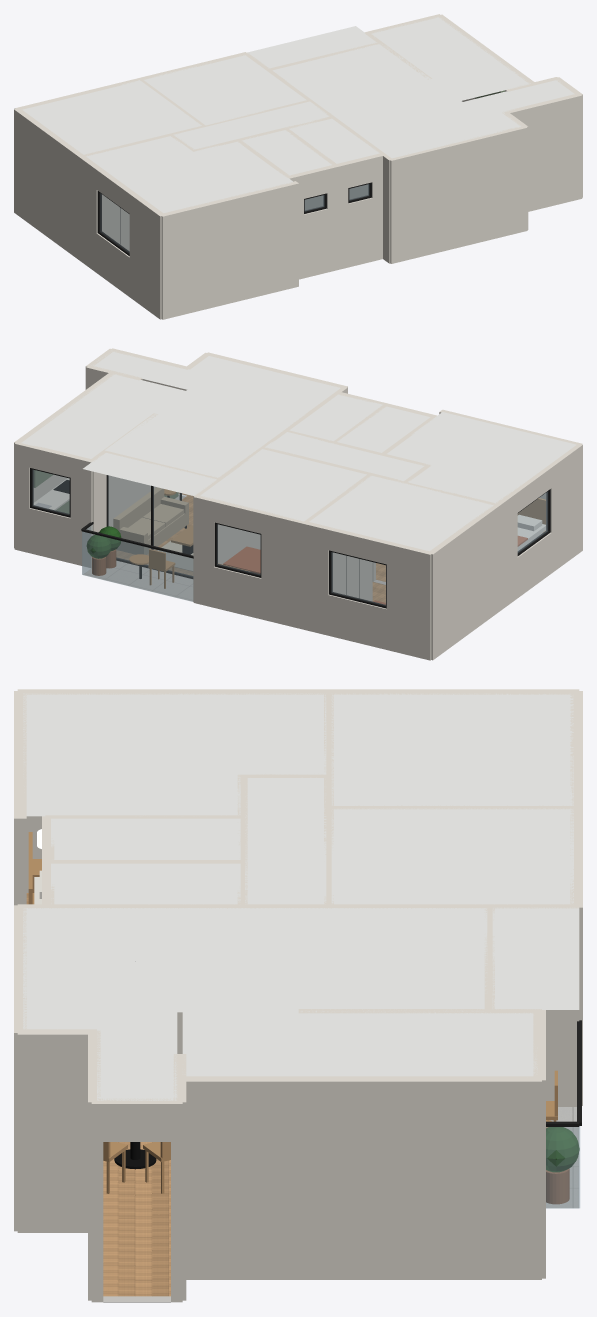
Rendered from modelo_escandinavo.glb.
The picture shows the model from 3 angles, top to bottom: view 1: azimuth 30°, elevation 25°; view 2: azimuth 150°, elevation 25°; view 3: azimuth 270°, elevation 25°; orthographic projection. The views are drawn at different scales.
Parts seen in each view (by area): view 1: Parede_P03, Parede_P05, Teto_Sala estar/jantar, Parede_P02.003, Teto_Suíte, Teto_Quarto 1, Teto_Quarto 2, Teto_Cozinha, Parede_P07, Parede_P02, Teto_Circulação, Teto_Varanda (+17 smaller); view 2: Teto_Sala estar/jantar, Parede_P02.003, Teto_Suíte, Teto_Quarto 1, Parede_P01.003, Teto_Quarto 2, Teto_Cozinha, Vidro_P15, Parede_P01, GuardaCorpo_vidro, Parede_P02, Teto_Circulação (+36 smaller); view 3: Parede_P10, Teto_Sala estar/jantar, Teto_Suíte, Teto_Quarto 1, Teto_Quarto 2, Teto_Cozinha, Parede_P06, Teto_Circulação, Teto_Varanda, Teto_Banheiro suíte, Teto_Banheiro social, Teto_Hall de entrada (+25 smaller).
Boxes of the visible parts, x1=… form: Parede_P03: x1=160, y1=181, x2=298, y2=319; Parede_P05: x1=388, y1=125, x2=527, y2=263; Teto_Sala estar/jantar: x1=272, y1=44, x2=520, y2=158; Parede_P02.003: x1=14, y1=108, x2=102, y2=272; Teto_Suíte: x1=86, y1=136, x2=293, y2=213; Teto_Quarto 1: x1=22, y1=80, x2=201, y2=154; Teto_Quarto 2: x1=144, y1=55, x2=306, y2=125; Teto_Cozinha: x1=371, y1=17, x2=530, y2=100; Parede_P07: x1=503, y1=93, x2=582, y2=211; Parede_P02: x1=129, y1=193, x2=164, y2=319; Teto_Circulação: x1=173, y1=101, x2=329, y2=149; Teto_Varanda: x1=247, y1=26, x2=377, y2=68; Teto_Sala estar/jantar: x1=105, y1=356, x2=340, y2=477; Parede_P02.003: x1=427, y1=491, x2=517, y2=660; Teto_Suíte: x1=387, y1=412, x2=576, y2=503; Teto_Quarto 1: x1=309, y1=476, x2=493, y2=551; Parede_P01.003: x1=261, y1=511, x2=331, y2=635; Teto_Quarto 2: x1=200, y1=449, x2=366, y2=521; Teto_Cozinha: x1=21, y1=374, x2=185, y2=458; Vidro_P15: x1=108, y1=475, x2=192, y2=576; Parede_P01: x1=386, y1=541, x2=433, y2=660; GuardaCorpo_vidro: x1=82, y1=532, x2=193, y2=601; Parede_P02: x1=546, y1=443, x2=582, y2=572; Teto_Circulação: x1=265, y1=432, x2=424, y2=481; Parede_P10: x1=177, y1=1076, x2=541, y2=1279; Teto_Sala estar/jantar: x1=23, y1=908, x2=487, y2=1030; Teto_Suíte: x1=23, y1=693, x2=326, y2=816; Teto_Quarto 1: x1=331, y1=693, x2=573, y2=805; Teto_Quarto 2: x1=331, y1=808, x2=573, y2=904; Teto_Cozinha: x1=182, y1=1012, x2=537, y2=1076; Parede_P06: x1=17, y1=1029, x2=96, y2=1232; Teto_Circulação: x1=245, y1=777, x2=326, y2=904; Teto_Varanda: x1=492, y1=907, x2=579, y2=1009; Teto_Banheiro suíte: x1=51, y1=818, x2=240, y2=859; Teto_Banheiro social: x1=51, y1=863, x2=240, y2=904; Teto_Hall de entrada: x1=97, y1=1030, x2=177, y2=1100.
Bounding box in the file's own units: 11.66 × 2.6 × 6.76.
Materials: 25 (3 with a texture image).
